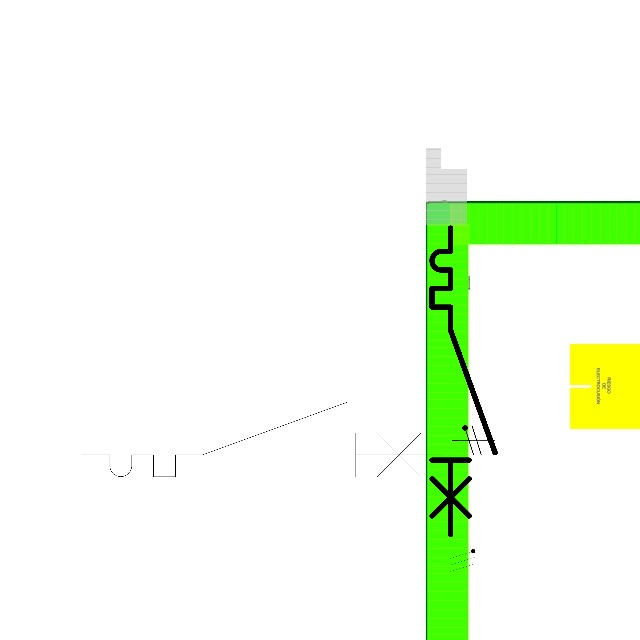interruptor_termomagnetico: (73, 393, 452, 486), (424, 220, 503, 543)
